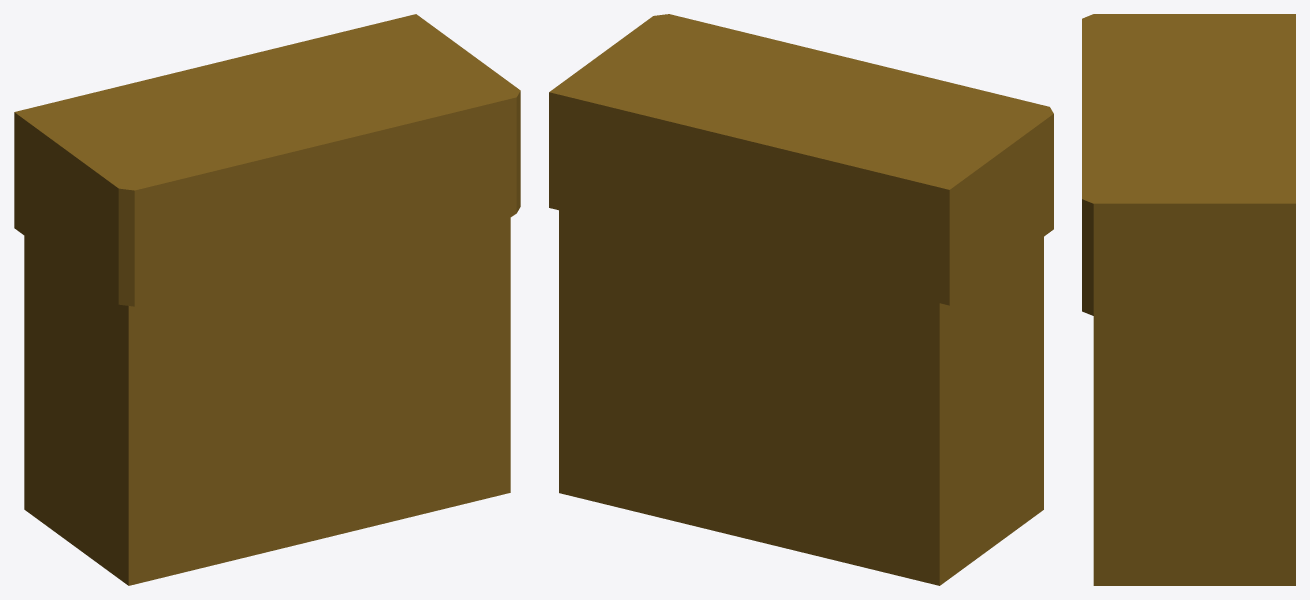
Rendered from backpack 1.fbx.
3 views of the same model, side by side, from view 1: azimuth 30°, elevation 25°; view 2: azimuth 150°, elevation 25°; view 3: azimuth 270°, elevation 25° (orthographic). The views are drawn at different scales.
Visible parts, largest first — view 1: Backpack; view 2: Backpack; view 3: Backpack.
Part boxes in pixels (x1,y1,x2,y2): Backpack: [14, 14, 520, 585]; Backpack: [549, 14, 1053, 585]; Backpack: [1082, 14, 1295, 585].
Bounding box in the file's own units: 210 × 200 × 100.
